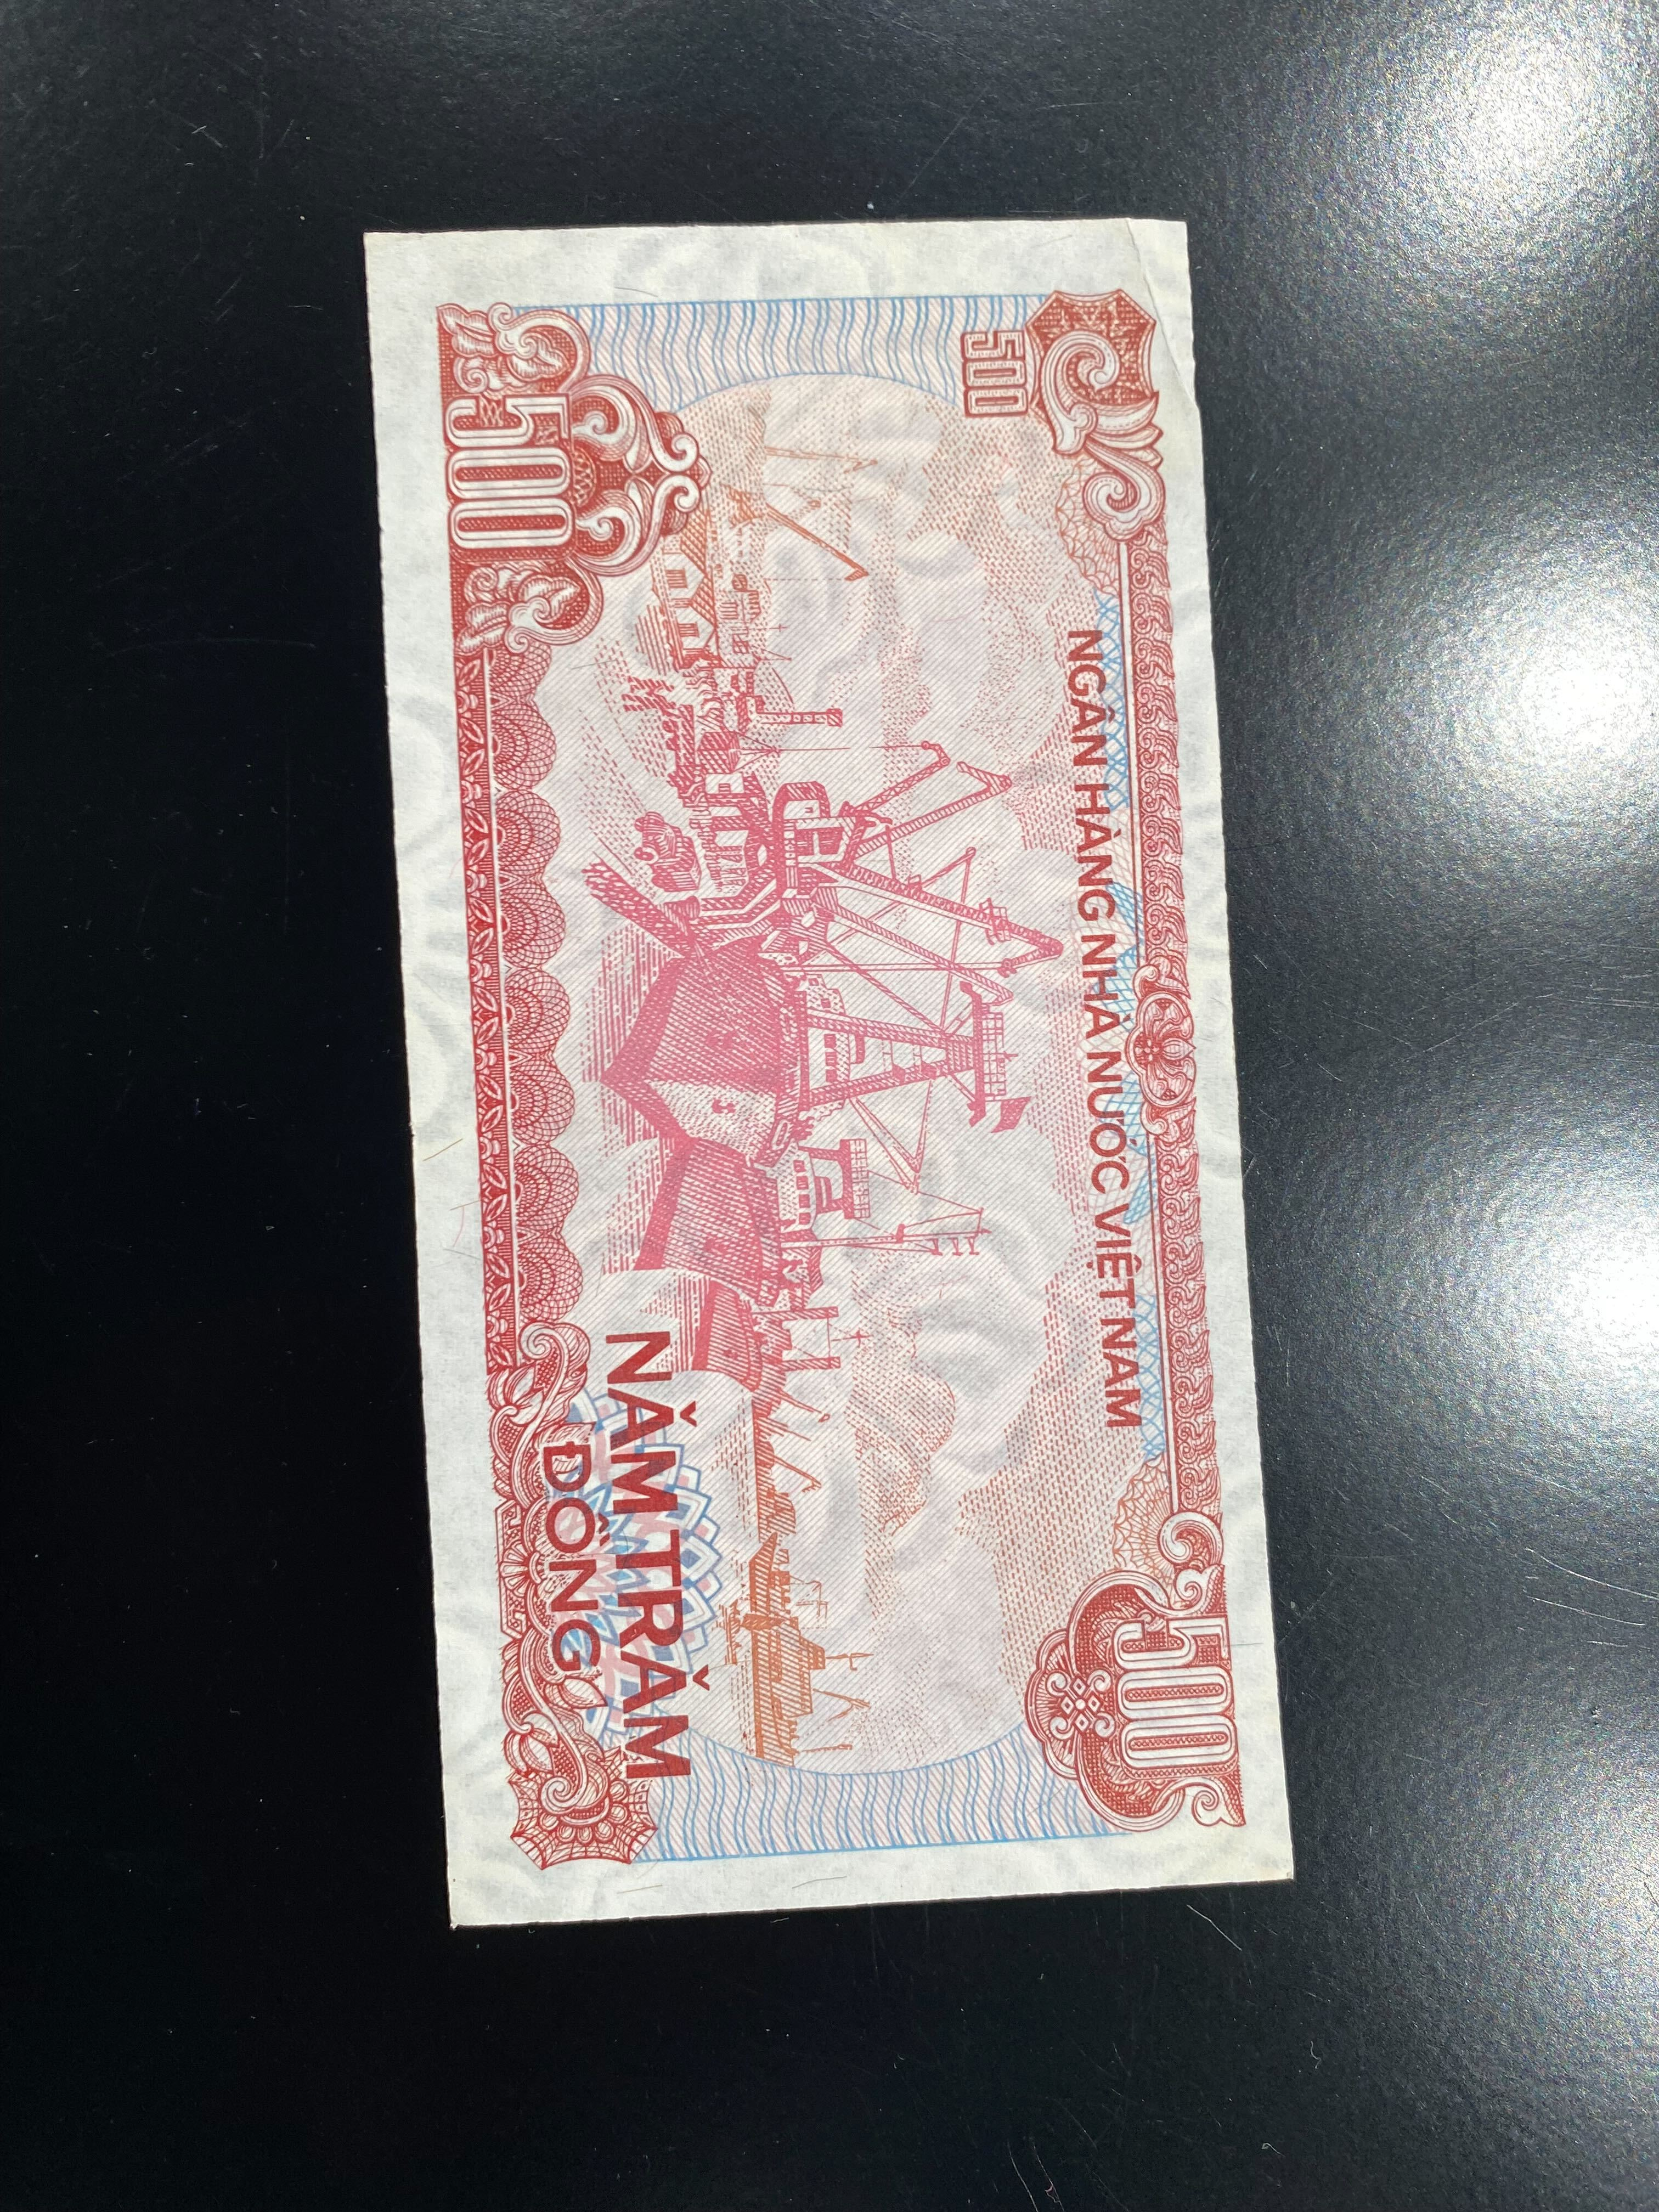500vnd: (366, 218, 1290, 1925)
